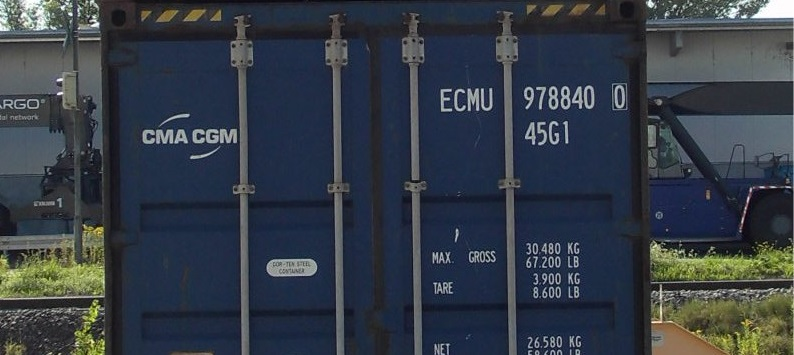container_door: (102, 5, 650, 355)
